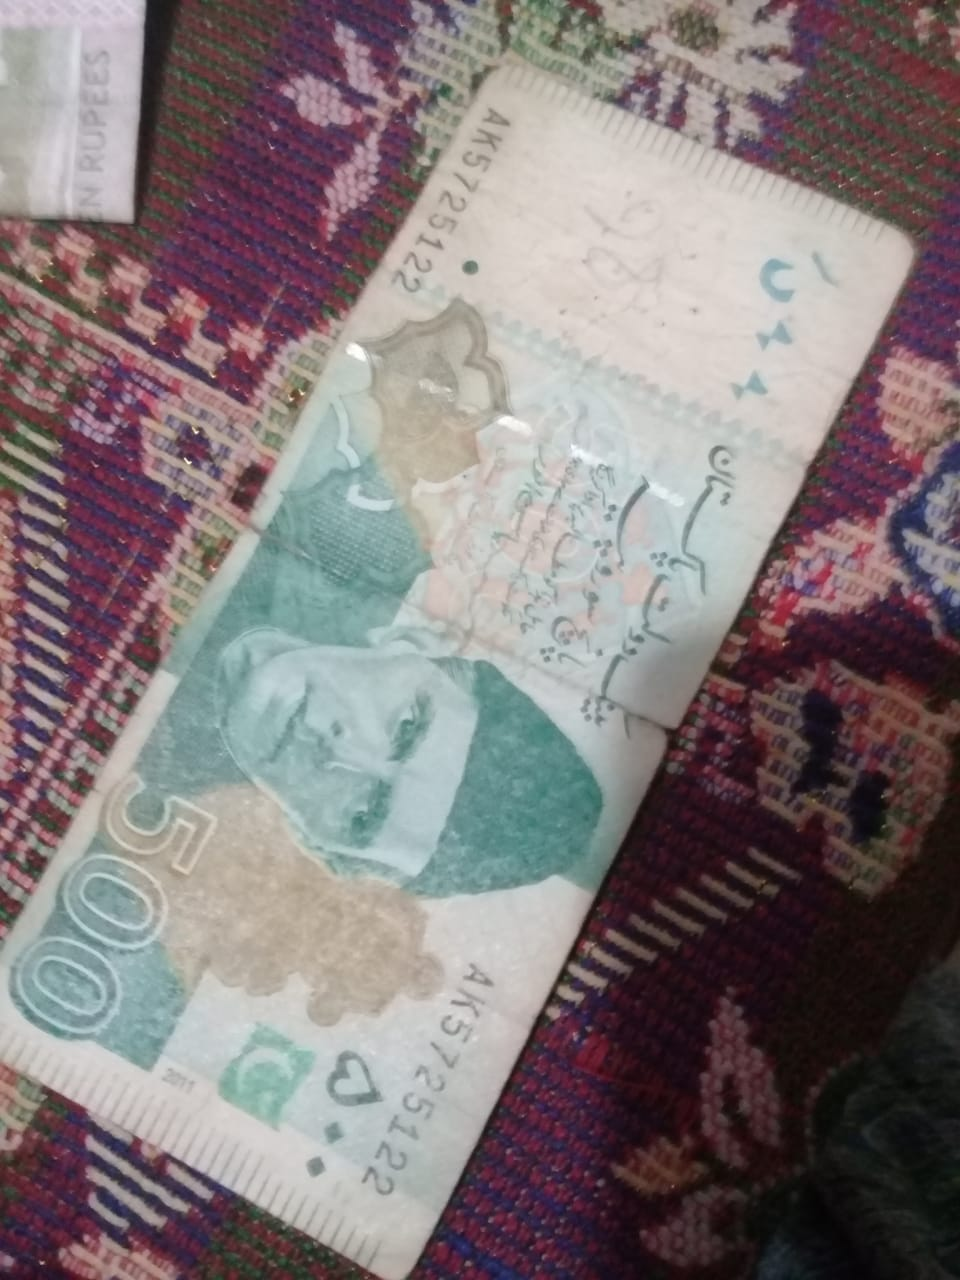500 rupee: (0, 76, 940, 1226)
